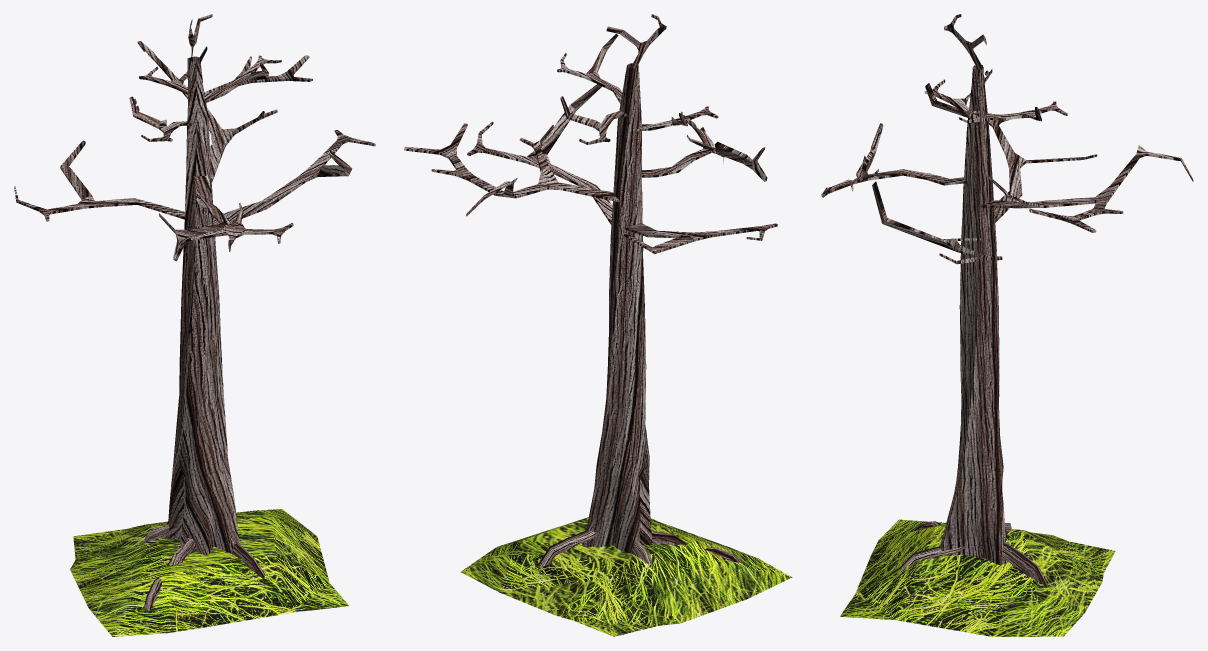
The model's file is Environment.Trees.02.fbx.
3 views of the same model, side by side, from view 1: azimuth 30°, elevation 25°; view 2: azimuth 150°, elevation 25°; view 3: azimuth 270°, elevation 25° (orthographic).
Parts seen in each view (by area): view 1: DeadTree; view 2: DeadTree; view 3: DeadTree.
Part boxes in pixels (box(x1,y1,x2,y2)): DeadTree: box(14, 14, 375, 636); DeadTree: box(404, 14, 792, 636); DeadTree: box(821, 14, 1193, 636).
Size of the model in its own units: 364 by 602 by 363.
